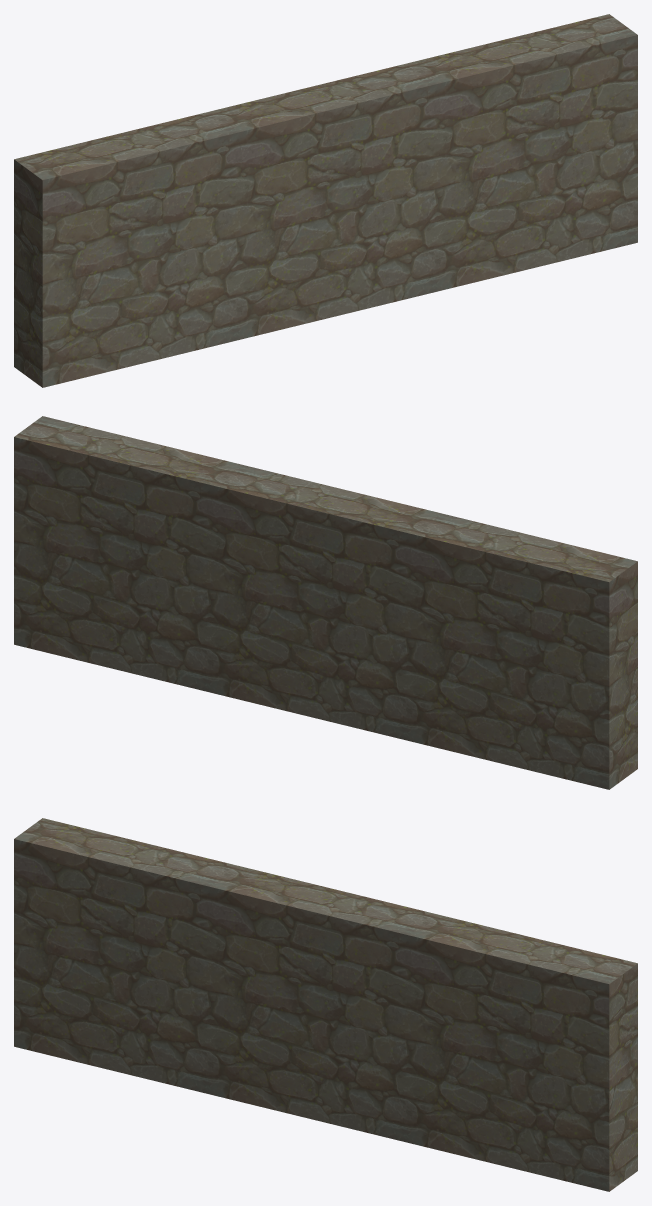
Rendered from SM_FW01_Ruins_Int_Wall_A_6x2_01.fbx.
3 views of the same model, one above another, from view 1: azimuth 30°, elevation 25°; view 2: azimuth 150°, elevation 25°; view 3: azimuth 330°, elevation 25° (orthographic).
Parts seen in each view (by area): view 1: SM_FW01_Ruins_Int_Wall_A_6x2_01; view 2: SM_FW01_Ruins_Int_Wall_A_6x2_01; view 3: SM_FW01_Ruins_Int_Wall_A_6x2_01.
Part boxes in pixels (x1,y1,x2,y2): SM_FW01_Ruins_Int_Wall_A_6x2_01: (14, 14, 637, 387); SM_FW01_Ruins_Int_Wall_A_6x2_01: (14, 416, 637, 789); SM_FW01_Ruins_Int_Wall_A_6x2_01: (14, 818, 637, 1191).
Size of the model in its own units: 6 by 2 by 0.5.
